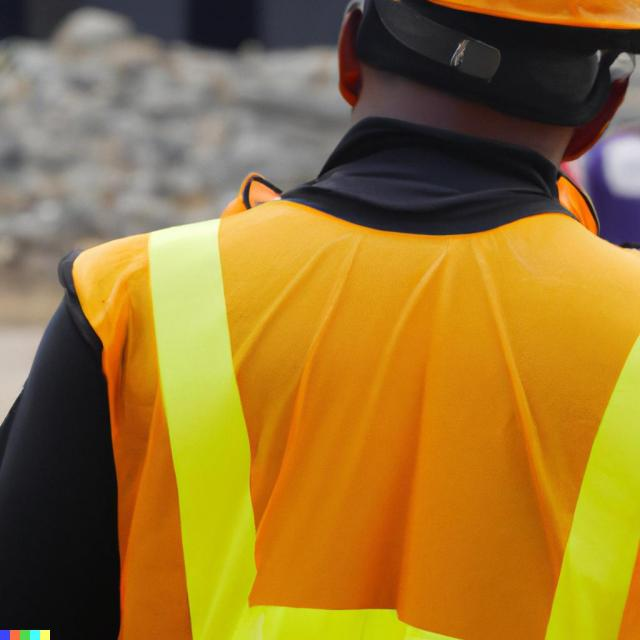Reflective-Jacket: (35, 171, 640, 638)
Safety-Helmet: (357, 0, 640, 44)
